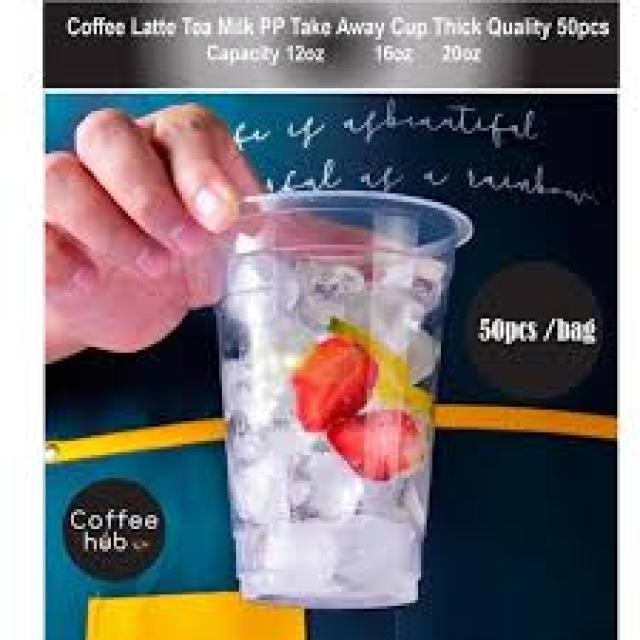bottle: (220, 194, 472, 608)
